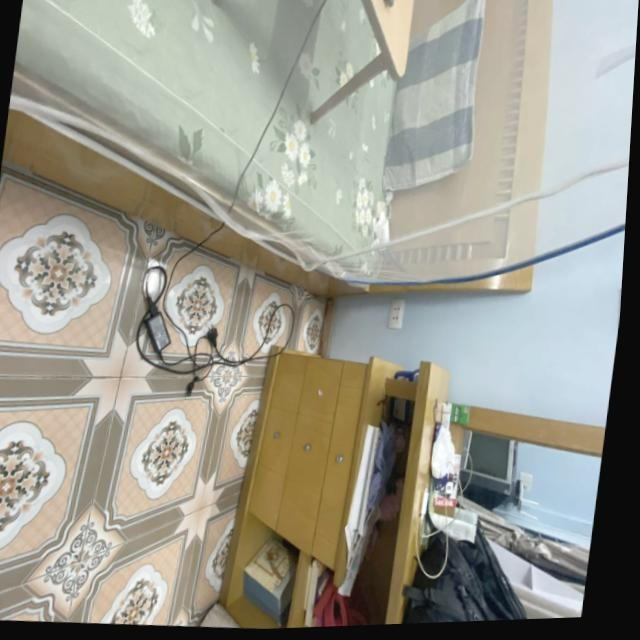outlet: (386, 297, 403, 329)
